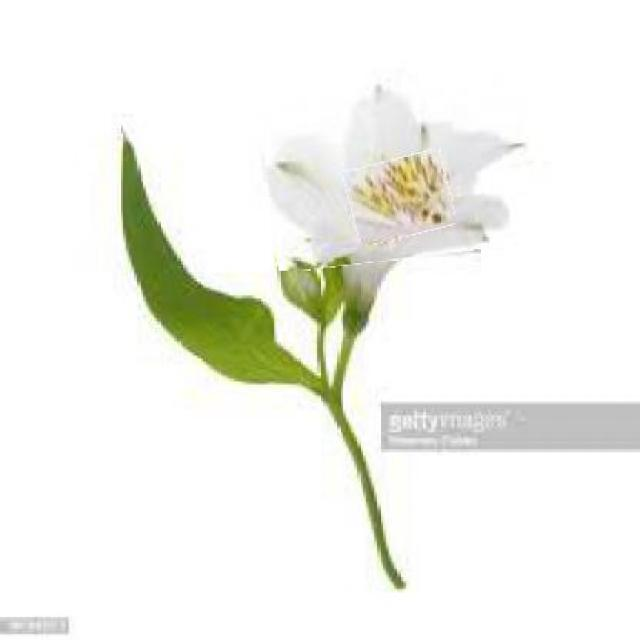Flower: (263, 76, 534, 267), (347, 154, 453, 241)
